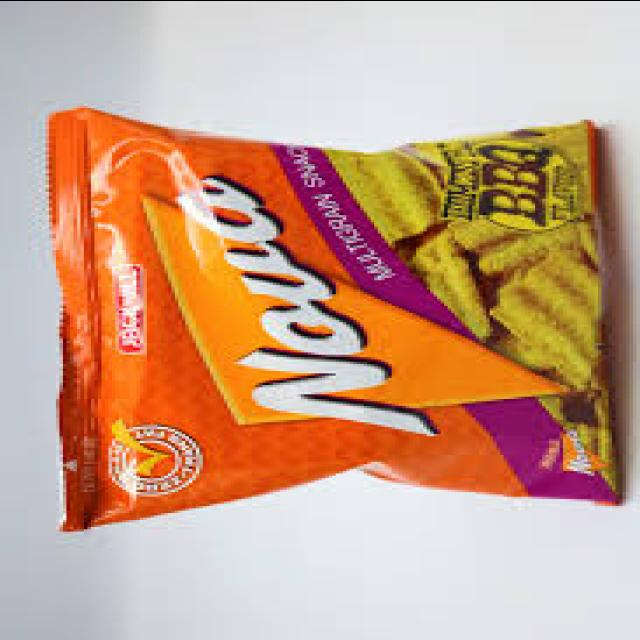junkfood wrapper: (47, 106, 619, 529)
